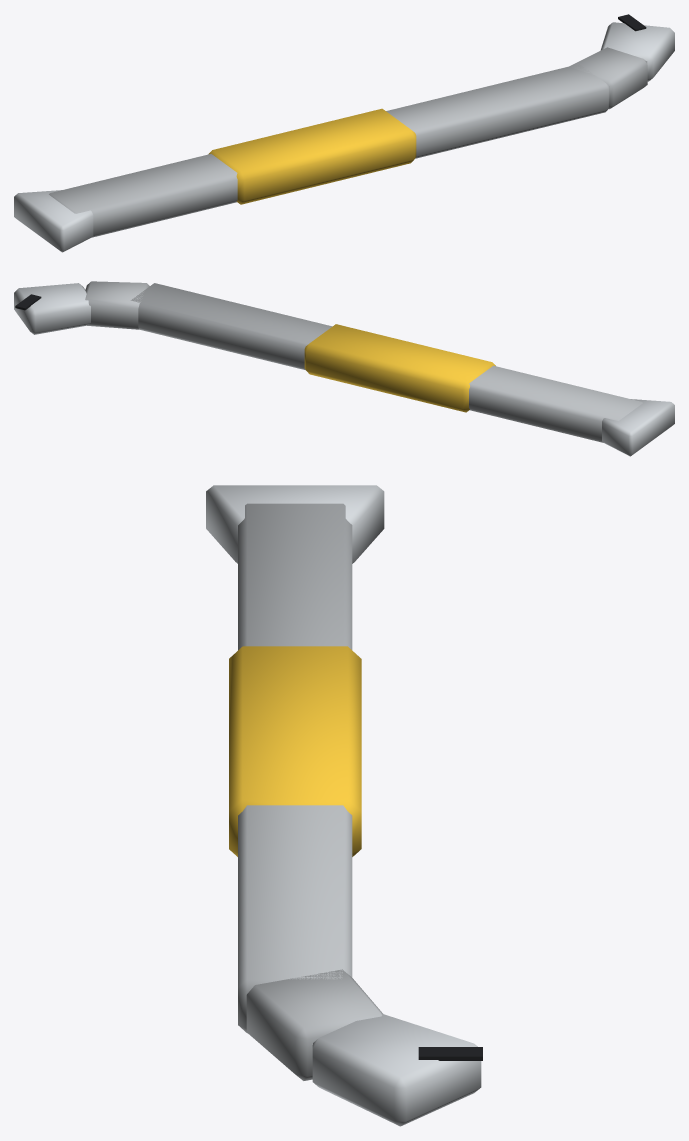
Rendered from SM_PryBar_01.glb.
3 views of the same model, one above another, from view 1: azimuth 30°, elevation 25°; view 2: azimuth 150°, elevation 25°; view 3: azimuth 270°, elevation 25° (orthographic). The views are drawn at different scales.
Parts seen in each view (by area): view 1: SM_PryBar_01; view 2: SM_PryBar_01; view 3: SM_PryBar_01.
Part boxes in pixels (x1=…): SM_PryBar_01: x1=14, y1=14, x2=674, y2=252; SM_PryBar_01: x1=14, y1=281, x2=674, y2=456; SM_PryBar_01: x1=206, y1=485, x2=482, y2=1126.
Size of the model in its own units: 0.6175 by 0.03 by 0.1209.
Materials: 1 (1 with a texture image).
